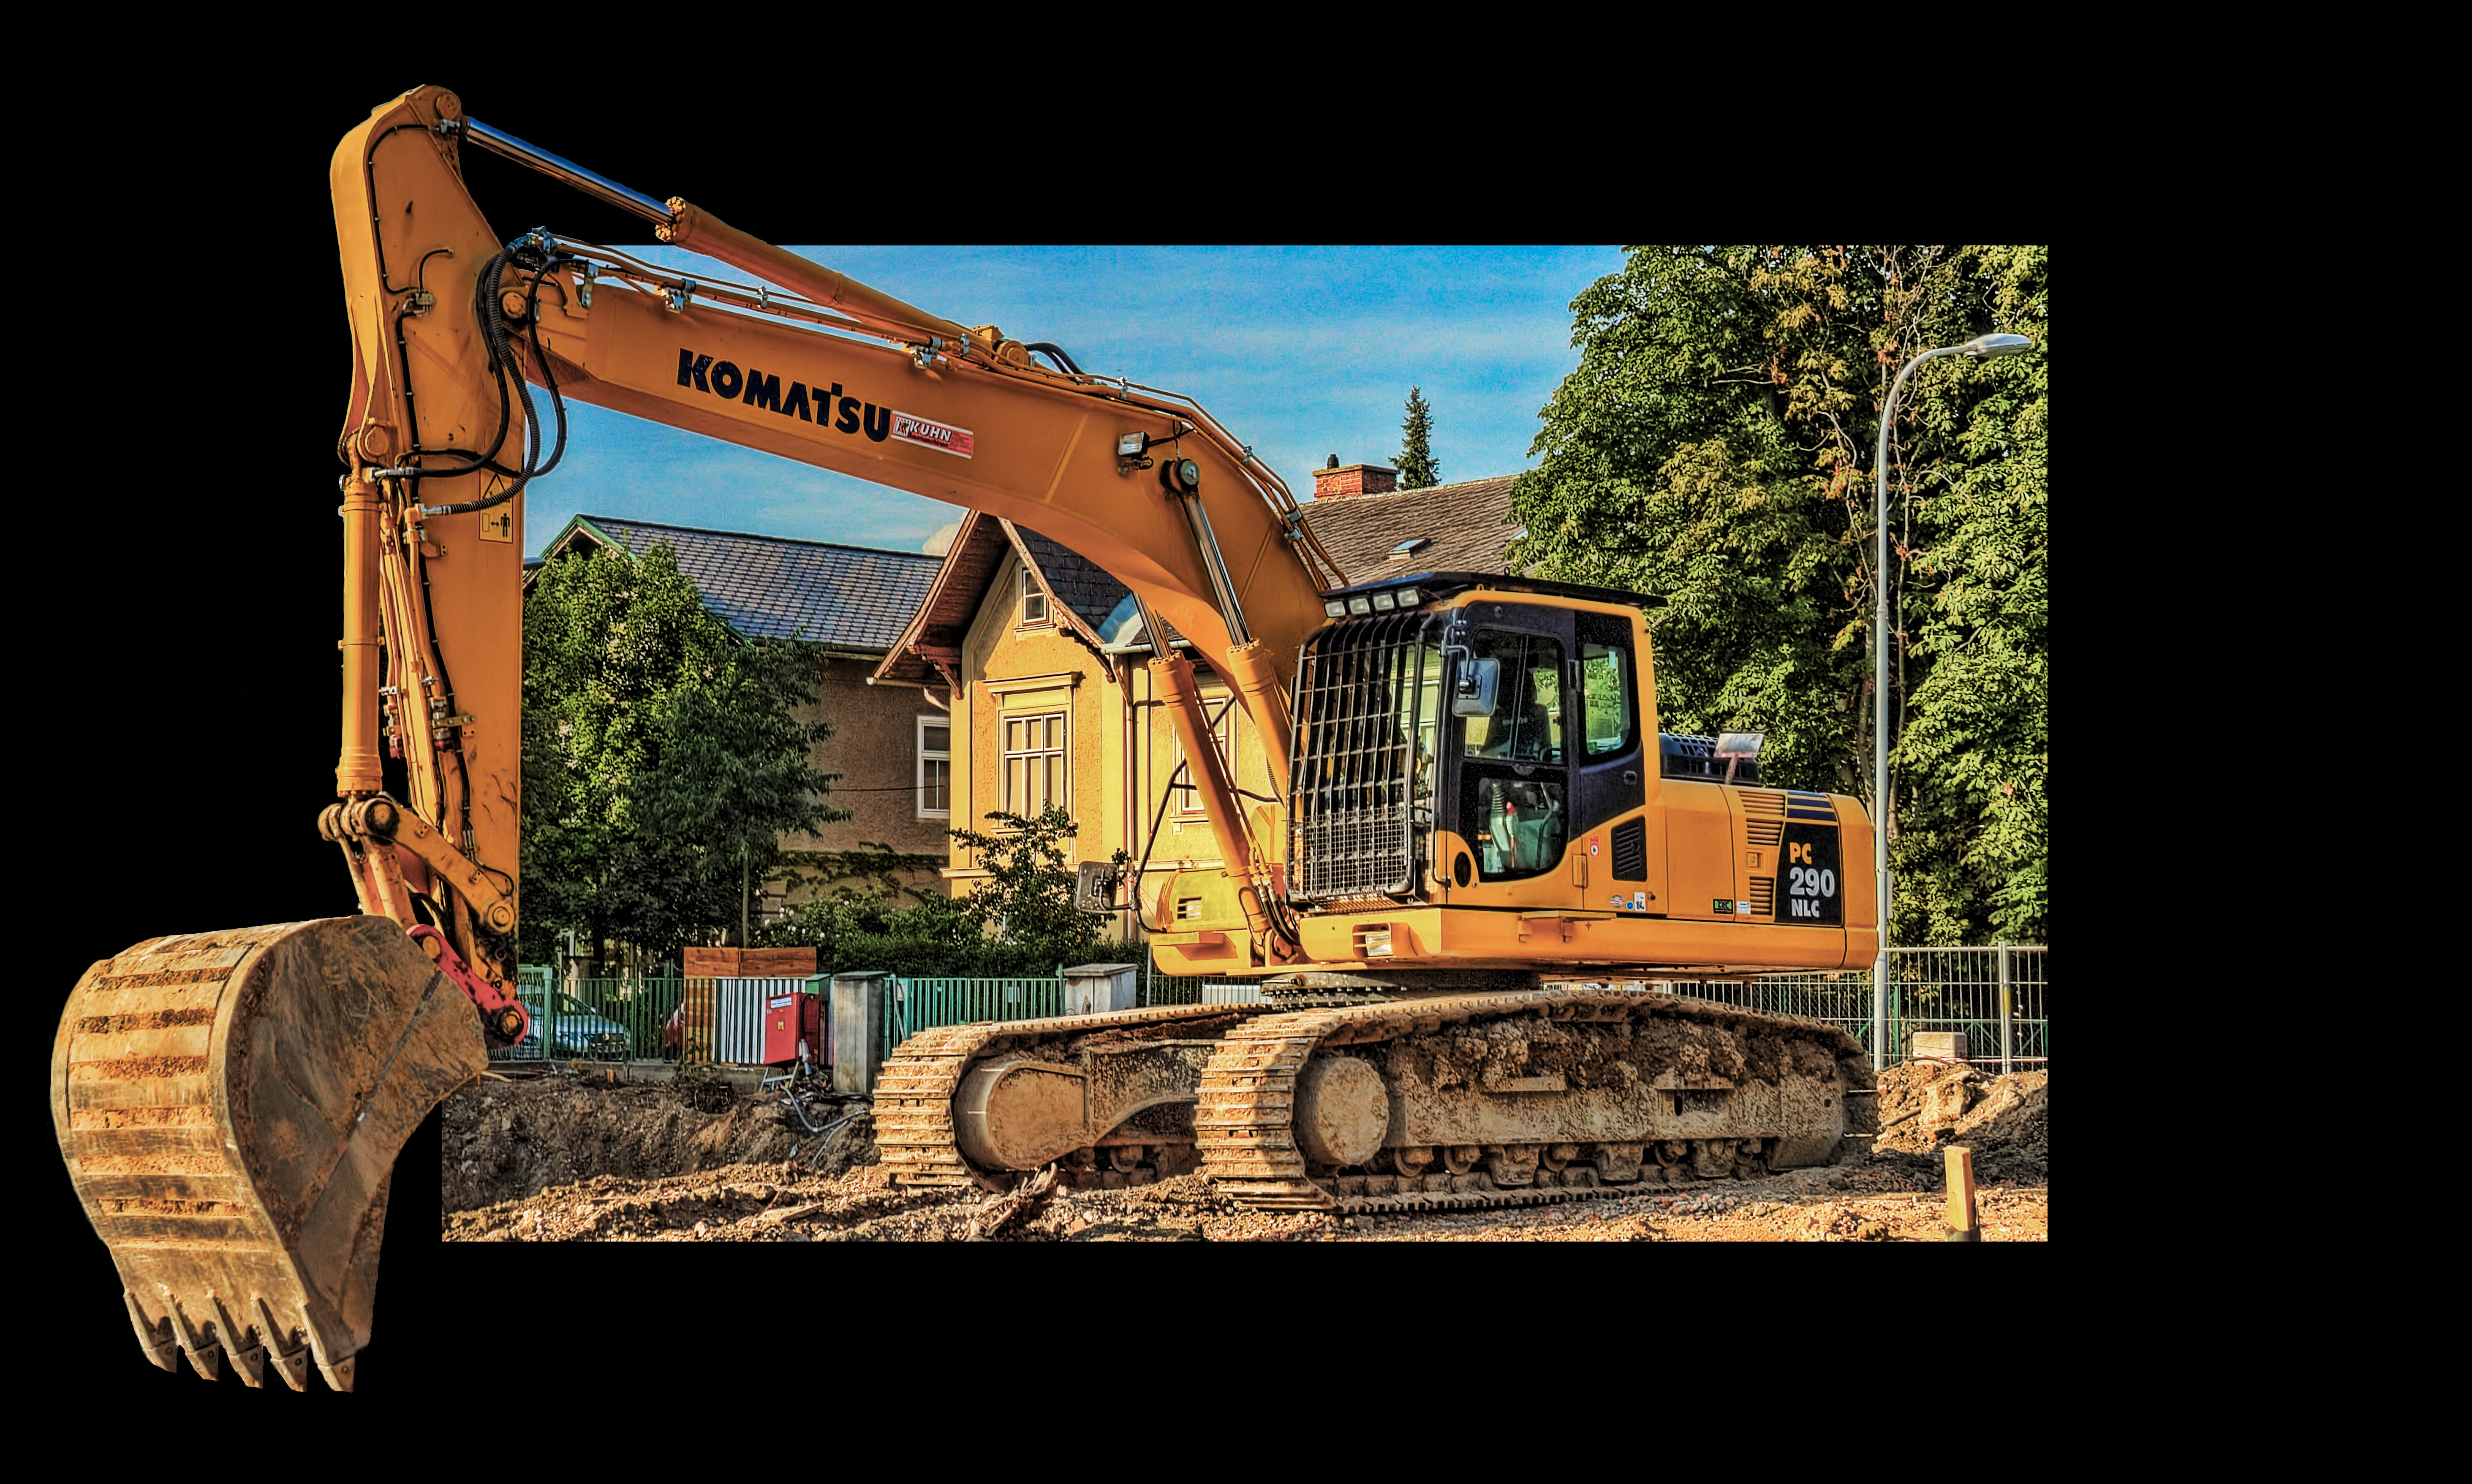excavator: (35, 64, 1896, 1435)
